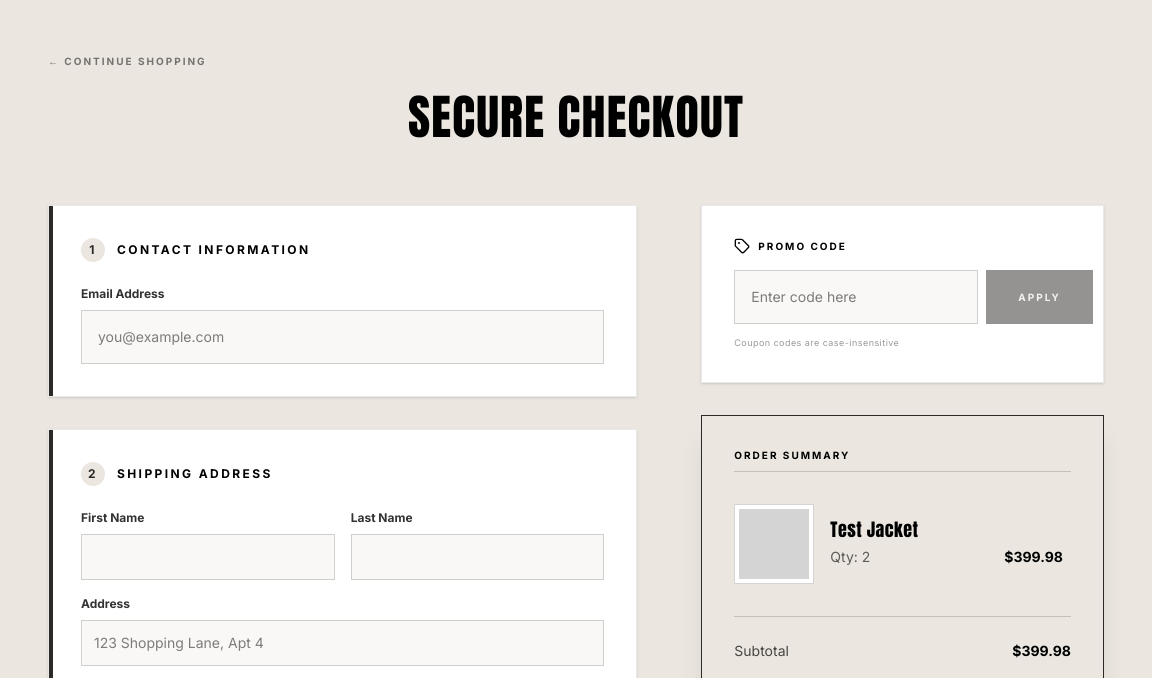
Checkout › applies coupon code successfully
This screenshot has width=1152, height=678.
In the field with placeholder "Enter code here": point(856, 297) [734,270,978,324], type "SAVE10"
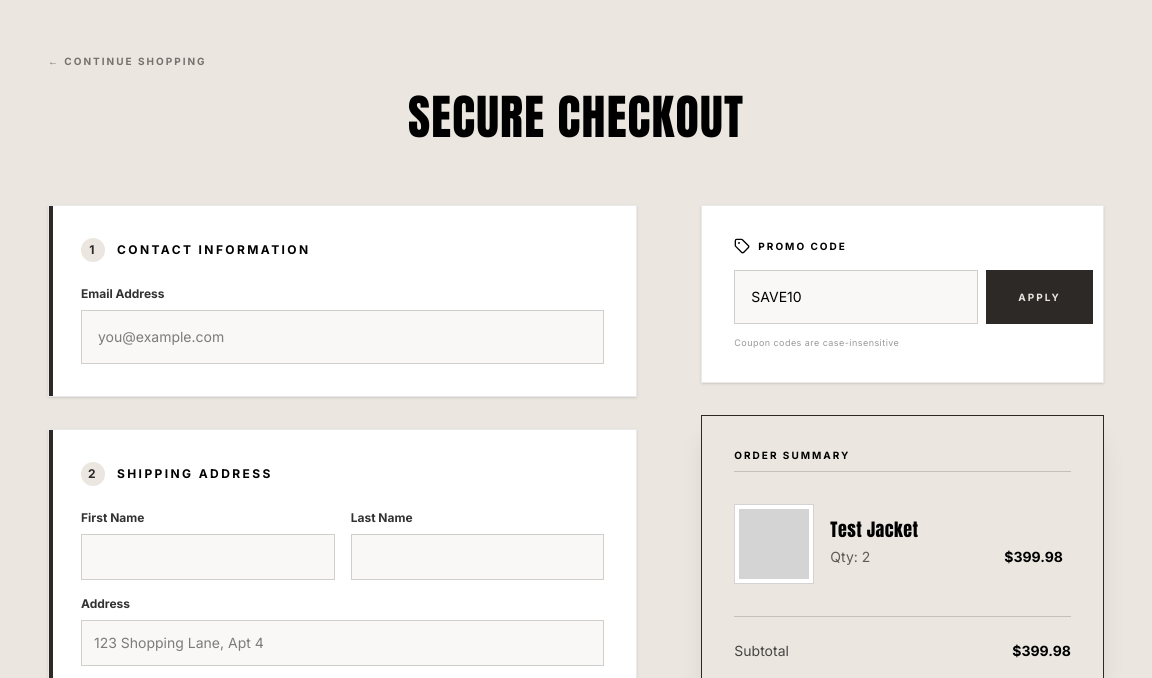
Click the button "Apply": point(1040, 297) [986,270,1093,324]
(page scrolled)
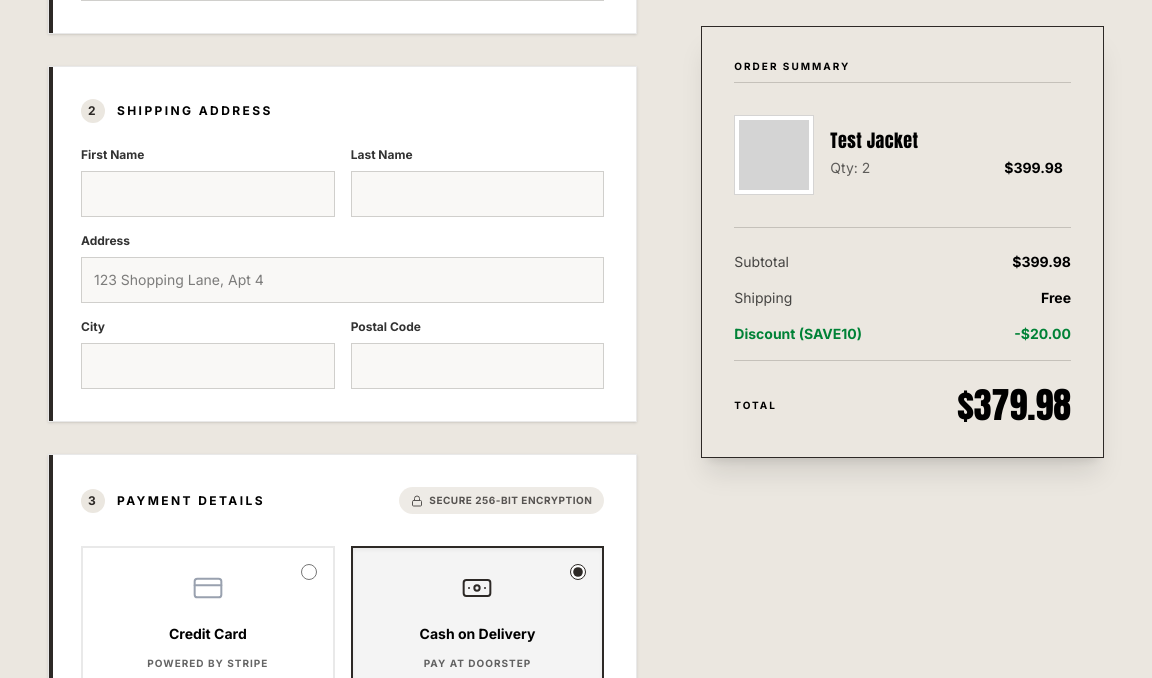
Expected: the text "-$20.00" is shown, [1014,324,1071,344]
